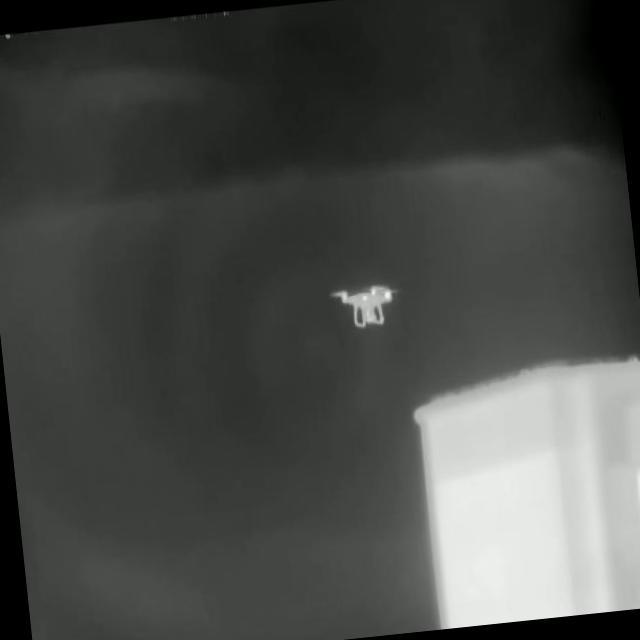DRONE: (326, 279, 401, 328)
